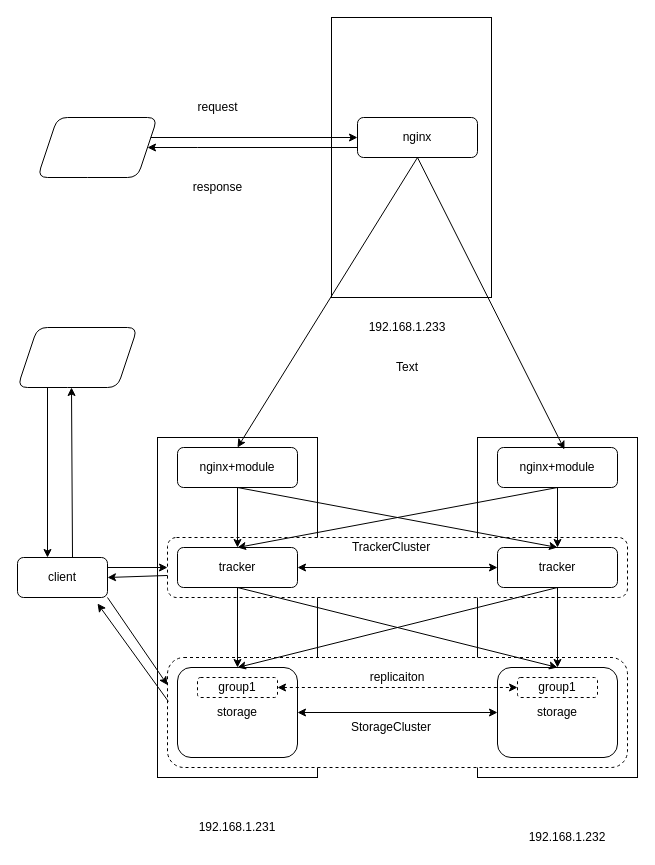
Some shapes in this 655 by 865 pixel diagram are drawn without their labels. Here are the shapes that lost their labels. From the top down, the centre of each, then its label:
point 97,147: HttpRequest
point 77,357: upload/download
